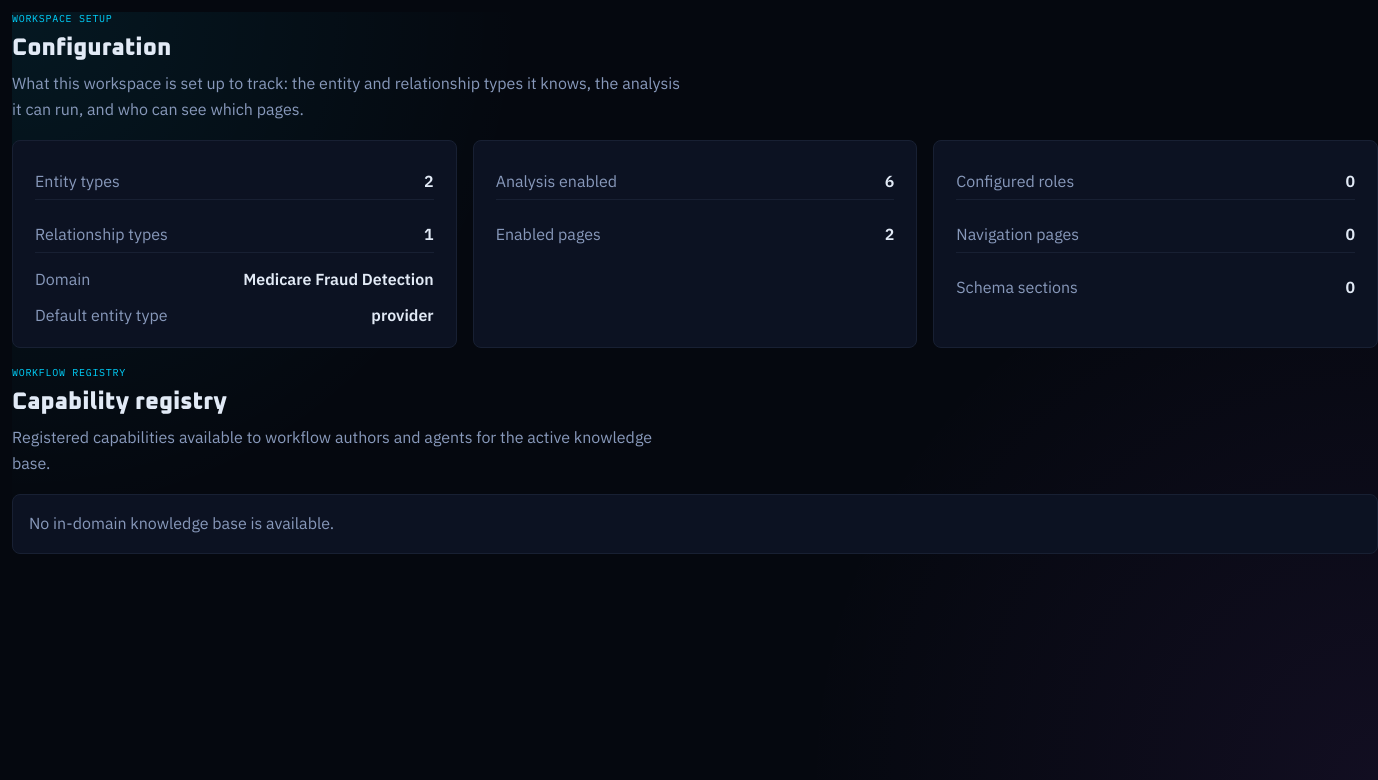
Test: active pack editor › says so when the schema is unavailable
The image size is (1378, 780).
Step 1. Click the text "Schema sections" → [1017, 287], box [956, 277, 1078, 297]
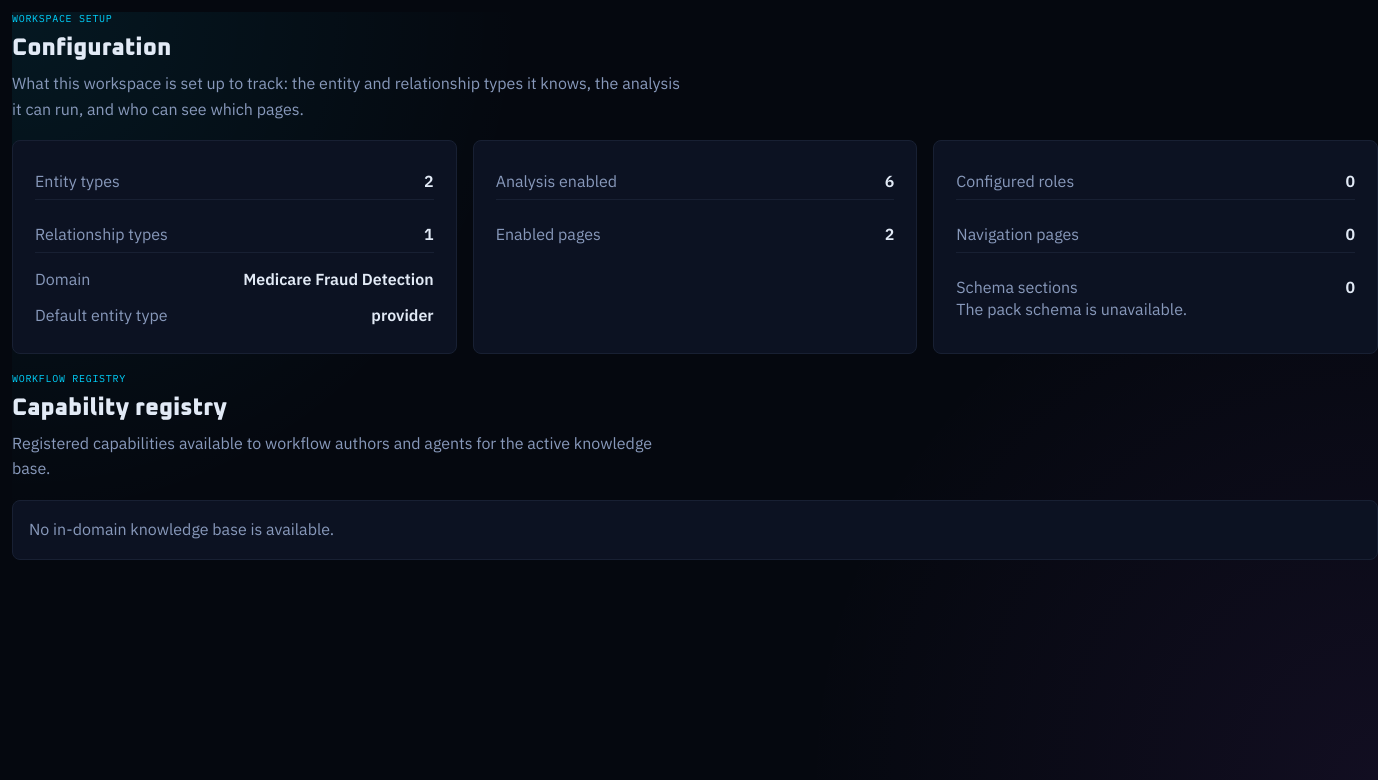
Check: the text "The pack schema is unavailable." is shown, box [956, 299, 1187, 319]
